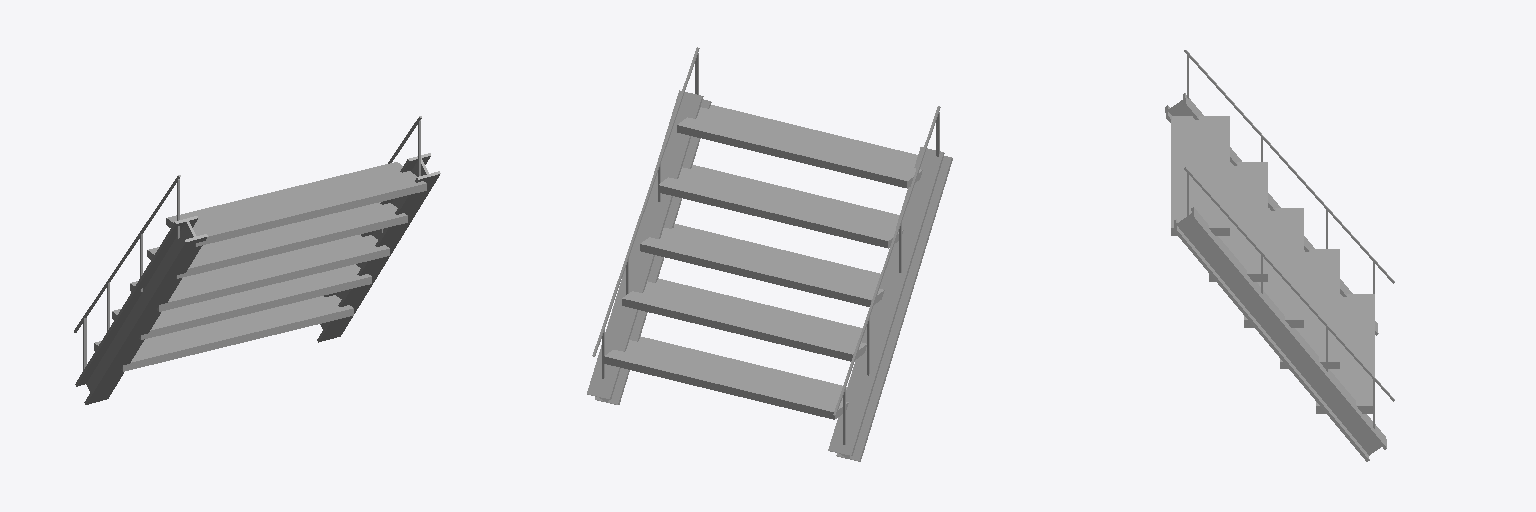
Rendered from ladder_lean.obj.
3 views of the same model, side by side, from view 1: azimuth 30°, elevation 25°; view 2: azimuth 150°, elevation 25°; view 3: azimuth 270°, elevation 25° (orthographic).
Bounding box in the file's own units: 941 × 991 × 709.